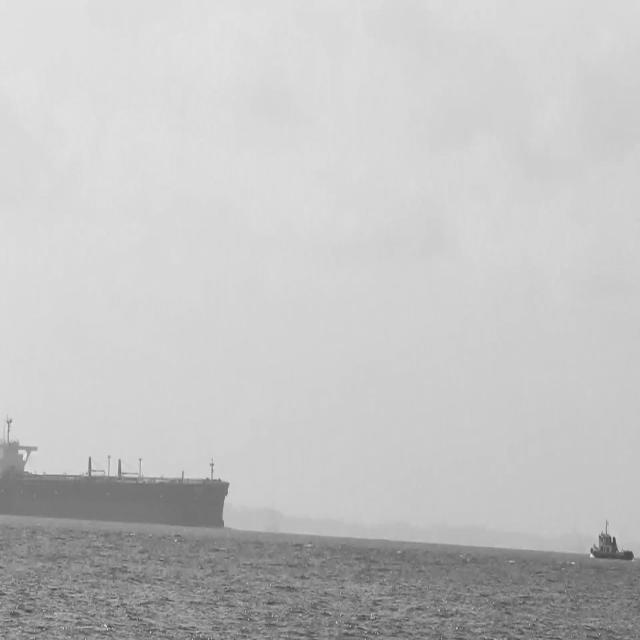ship: (0, 416, 229, 525), (591, 514, 635, 563)
